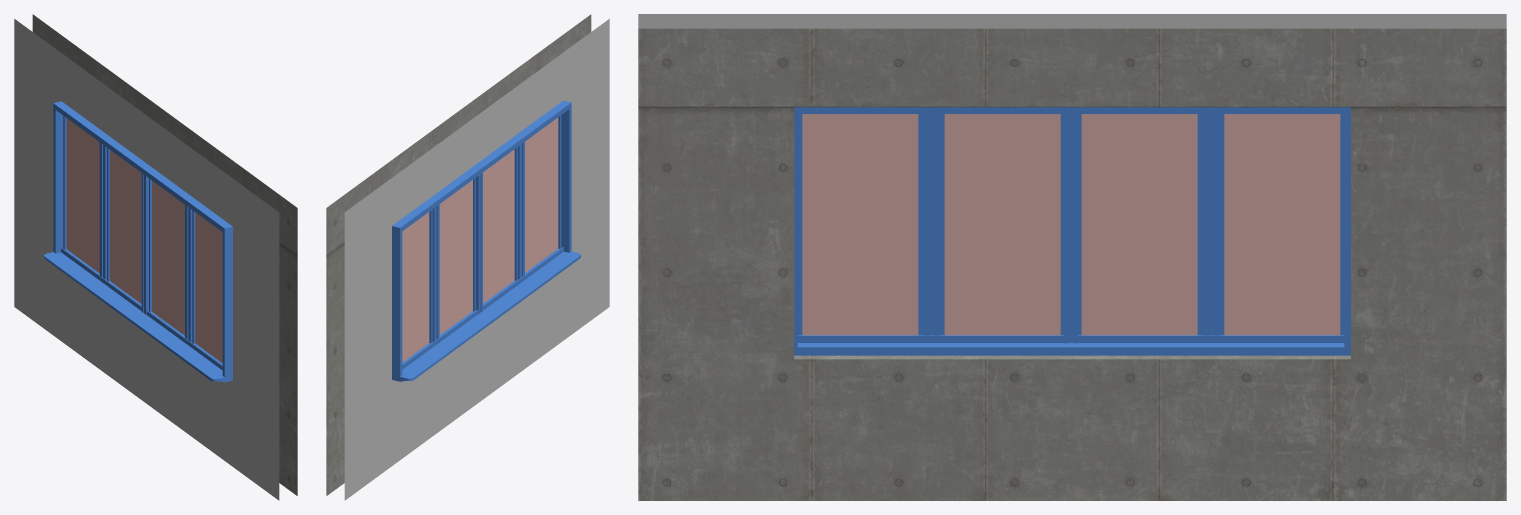
File: AE_Wall_Windows_04.fbx
3 views of the same model, side by side, from view 1: azimuth 30°, elevation 25°; view 2: azimuth 150°, elevation 25°; view 3: azimuth 270°, elevation 25° (orthographic). The views are drawn at different scales.
Visible parts, largest first — view 1: AE_Wall_Windows_04_LOD0; view 2: AE_Wall_Windows_04_LOD0; view 3: AE_Wall_Windows_04_LOD0.
Boxes of the visible parts, <box> form: AE_Wall_Windows_04_LOD0: <box>14,14,297,500</box>; AE_Wall_Windows_04_LOD0: <box>326,14,609,500</box>; AE_Wall_Windows_04_LOD0: <box>638,14,1506,500</box>.
Size of what is drawn, in the model's own units: 41.21 by 300 by 500.
